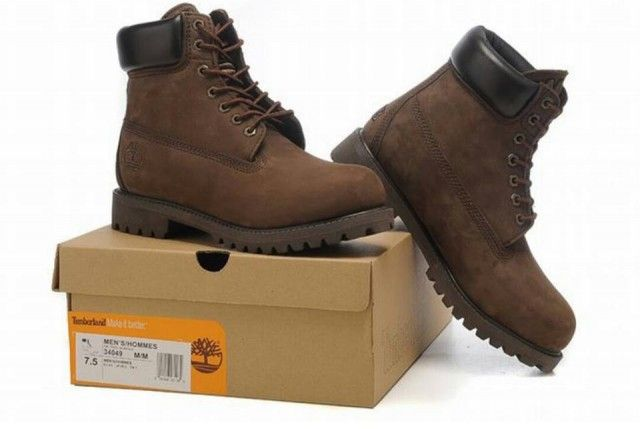shoes: (328, 20, 582, 393), (104, 1, 399, 259)
